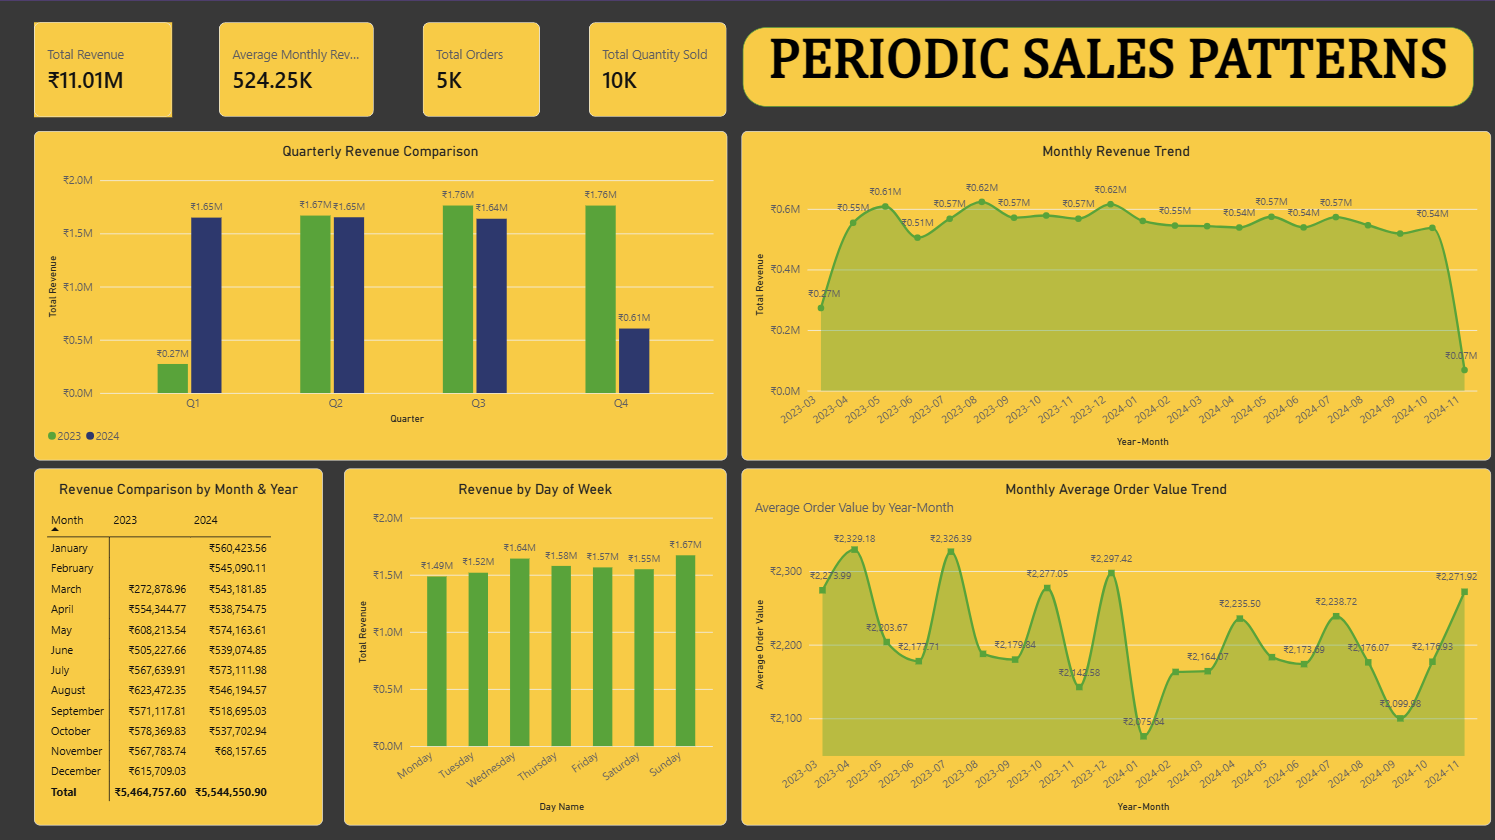

What the dashboard file says about the page in this screenshot:
{"tool":"powerbi","page":{"name":"MONTHLY & SEASONAL SALES","canvas":[1920,1080],"ordinal":5},"visuals":[{"type":"cardVisual","fields":{"Data":["blinkit_orders.Total Revenue"]},"box":[44.2,27.6,176.7,121.5],"z":0},{"type":"cardVisual","fields":{"Data":["blinkit_orders.Total Orders"]},"box":[542.9,27.6,150.9,121.5],"z":1000},{"type":"cardVisual","fields":{"Data":["blinkit_order_items.Total Quantity Sold"]},"box":[754.6,27.6,176.7,121.5],"z":2000},{"type":"cardVisual","fields":{"Data":["blinkit_orders.Average Monthly Revenue"]},"box":[281.6,27.6,198.8,121.5],"z":3000},{"type":"lineChart","title":"Monthly Average Order Value Trend","fields":{"Category":["DateTable.Year-Month"],"Y":["blinkit_orders.Average Order Value"]},"box":[949.7,598.2,958.9,456.4],"z":4000},{"type":"lineChart","title":"Monthly Revenue Trend","fields":{"Category":["DateTable.Year-Month"],"Y":["blinkit_orders.Total Revenue"]},"box":[949.7,165.6,958.9,421.5],"z":5000},{"type":"clusteredColumnChart","title":"Quarterly Revenue Comparison","fields":{"Category":["DateTable.Quarter"],"Series":["DateTable.Year"],"Y":["blinkit_orders.Total Revenue"]},"box":[44.2,165.6,887.1,421.5],"z":6000},{"type":"clusteredColumnChart","title":"Revenue by Day of Week","fields":{"Category":["DateTable.Day Name"],"Y":["blinkit_orders.Total Revenue"]},"box":[441.7,598.2,489.6,456.4],"z":7000},{"type":"pivotTable","title":"Revenue Comparison by Month & Year","fields":{"Columns":["DateTable.Year"],"Rows":["DateTable.Month"],"Values":["blinkit_orders.Total Revenue"]},"box":[44.2,598.2,369.9,456.4],"z":8000},{"type":"textbox","box":[951.5,33.1,935,101.2],"z":9000}]}

Visuals, with their boxes in screenshot pixels (x1, y1, x2, y2), scaled from the page's 1920x1080 canvas onto the 1495x840 screenshot:
cardVisual - blinkit_orders.Total Revenue: l=34, t=21, r=172, b=116
cardVisual - blinkit_orders.Total Orders: l=423, t=21, r=540, b=116
cardVisual - blinkit_order_items.Total Quantity Sold: l=588, t=21, r=725, b=116
cardVisual - blinkit_orders.Average Monthly Revenue: l=219, t=21, r=374, b=116
"Monthly Average Order Value Trend" lineChart: l=739, t=465, r=1486, b=820
"Monthly Revenue Trend" lineChart: l=739, t=129, r=1486, b=457
"Quarterly Revenue Comparison" clusteredColumnChart: l=34, t=129, r=725, b=457
"Revenue by Day of Week" clusteredColumnChart: l=344, t=465, r=725, b=820
"Revenue Comparison by Month & Year" pivotTable: l=34, t=465, r=322, b=820
textbox: l=741, t=26, r=1469, b=104
